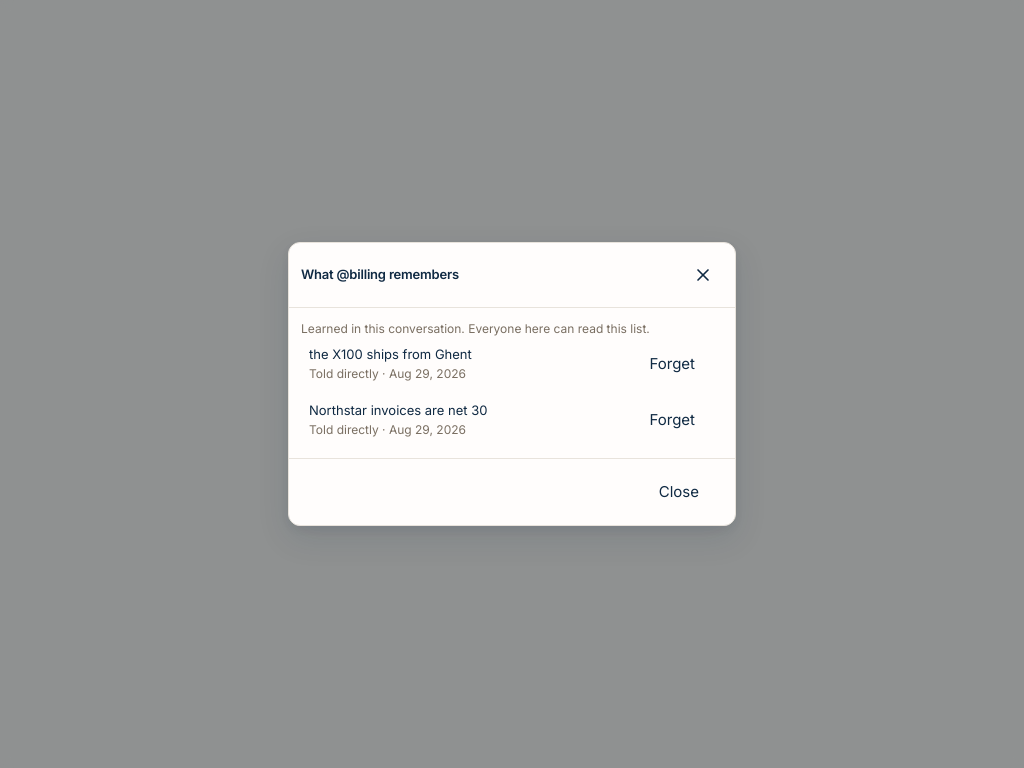
Test case: forgetting asks the server and redraws from its fresh answer
The image size is (1024, 768).
expect the text "the X100 ships from Ghent" is shown: met, box [309,346,472,362]
Click the button "Forget" next to "the X100 ships from Ghent" at (672, 364), box [630,344,715,384]
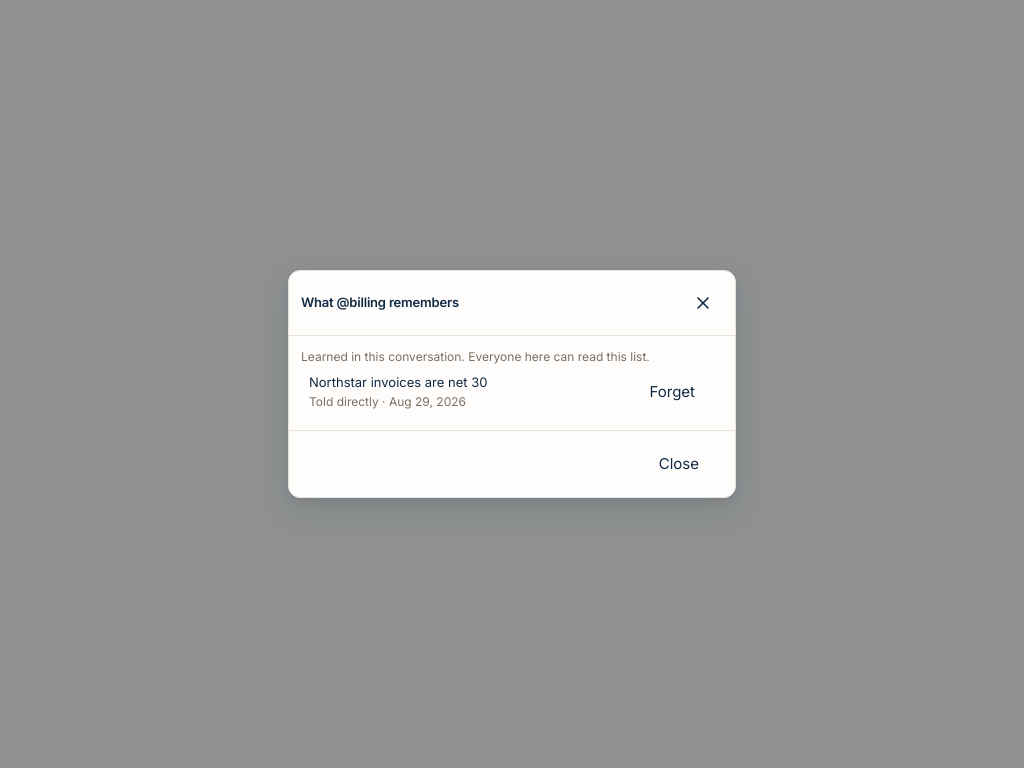
expect the text "Northstar invoices are net 30" is shown: met, box [309,374,487,390]
expect the text "the X100 ships from Ghent" is gone: met
